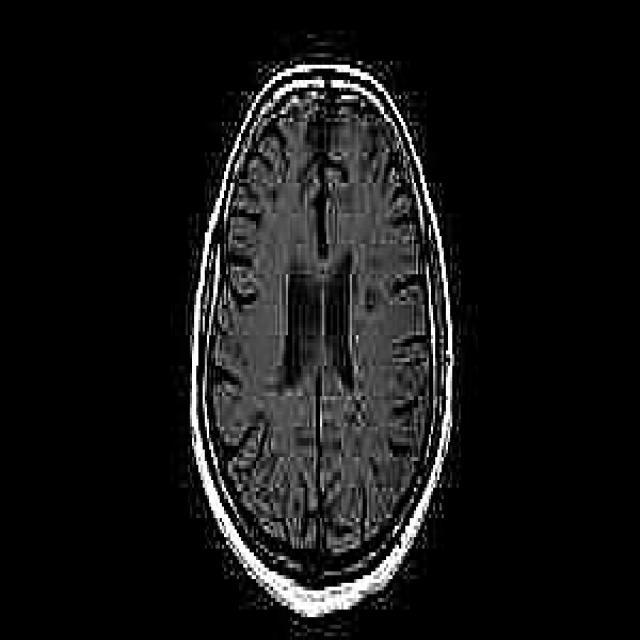notumor: (188, 65, 452, 617)
